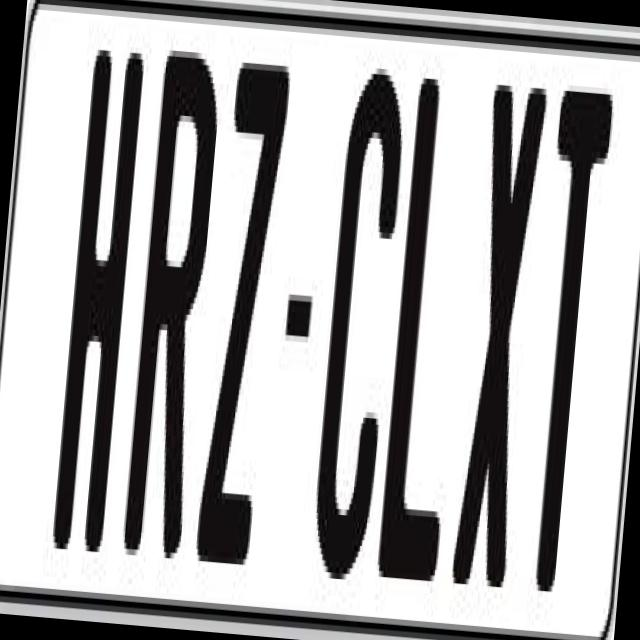C: (304, 59, 405, 580)
H: (50, 32, 146, 534)
L: (376, 61, 490, 594)
R: (121, 49, 222, 558)
T: (515, 90, 616, 599)
X: (448, 78, 556, 600)
Z: (191, 43, 294, 570)
